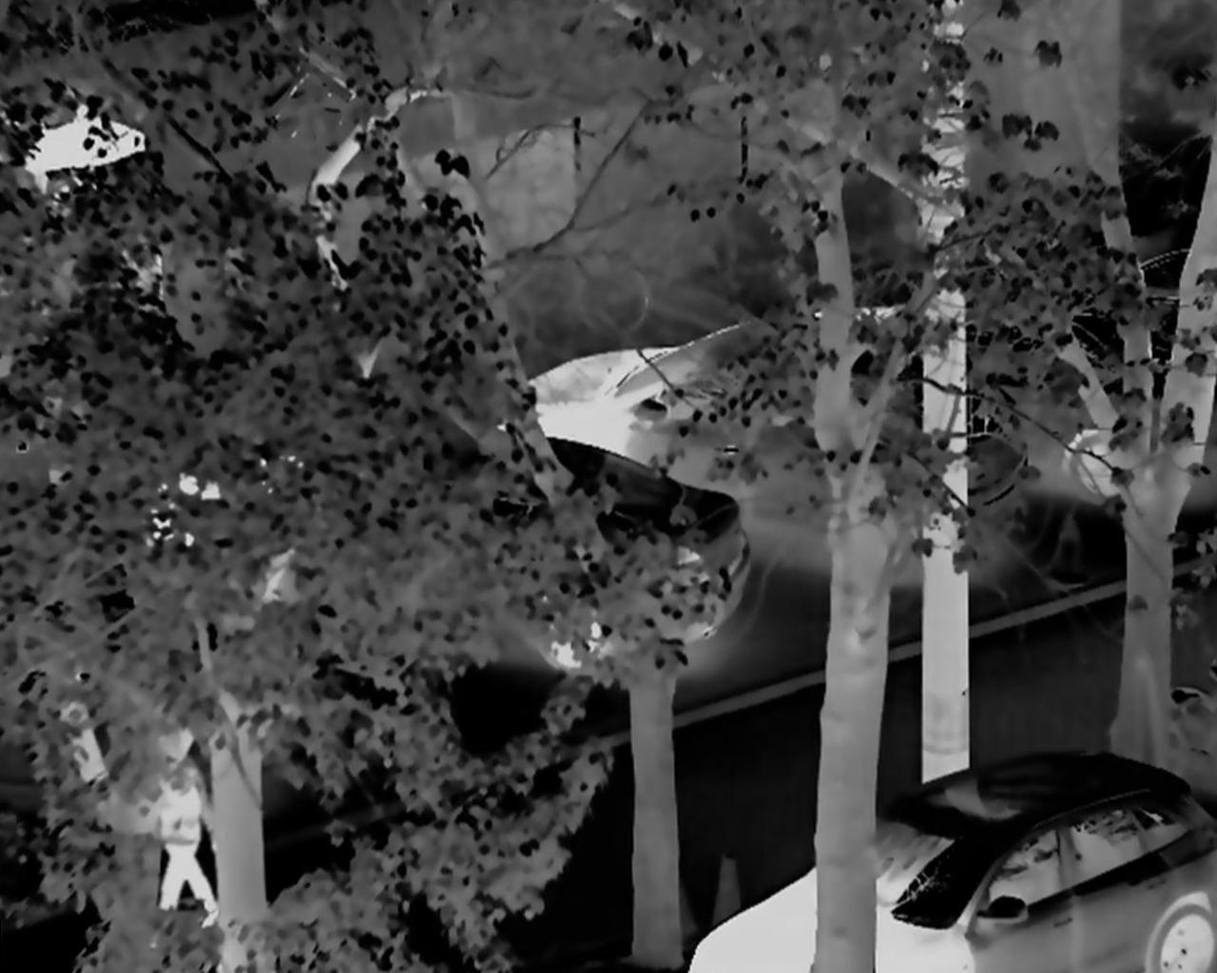person: (132, 755, 228, 944)
